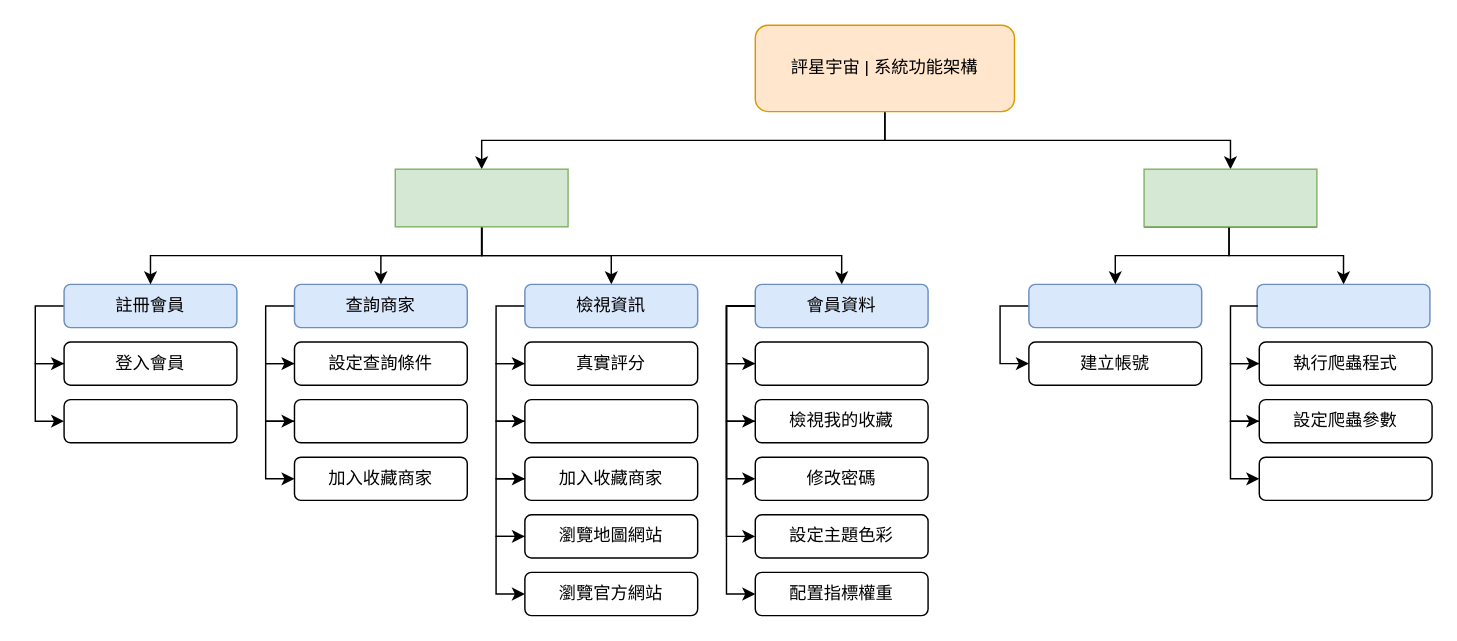
The diagram is 1457 pixels wide and 641 high, and some of its shapes have lost their labels. Here are the shapes that lost their labels. From the top down, the centre of each, then its label:
(481,197): 使用者
(1230,197): 管理者
(1114,305): 登入帳號
(1343,305): 爬蟲程式控制
(841,363): 變更個人資訊
(150,420): 忘記密碼
(380,420): 標籤快速查詢
(610,420): 指標分析
(1345,478): 管理資料庫
